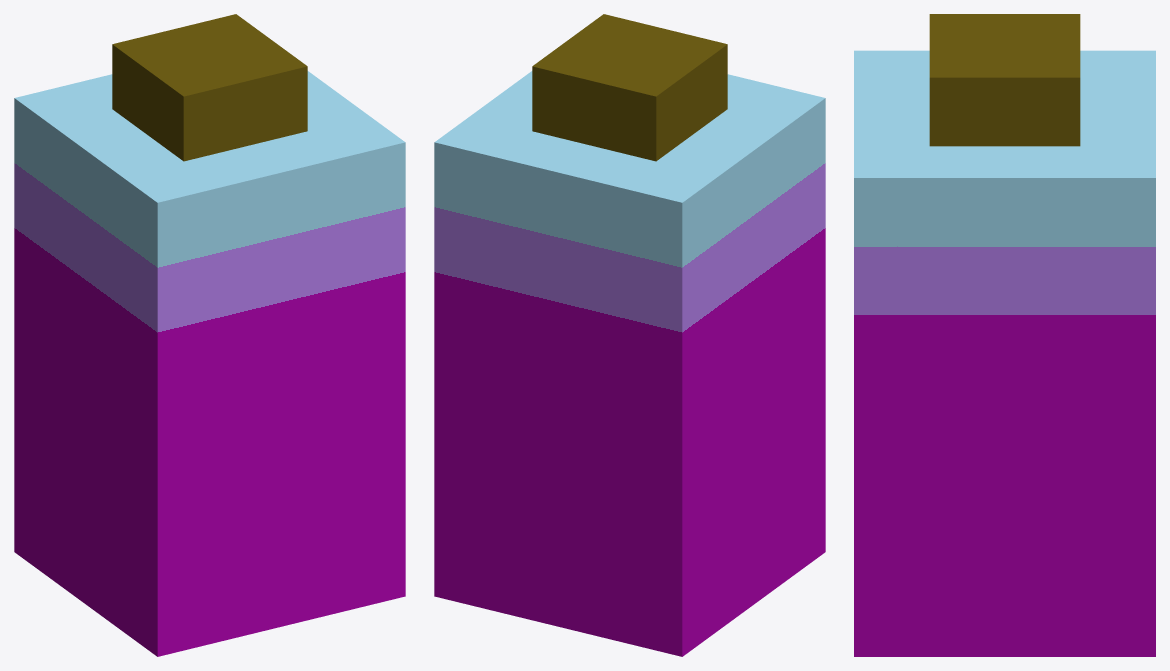
Rendered from item_potion_sp.fbx.
The picture shows the model from 3 angles, left to right: view 1: azimuth 30°, elevation 25°; view 2: azimuth 150°, elevation 25°; view 3: azimuth 270°, elevation 25°; orthographic projection. The views are drawn at different scales.
Visible parts, largest first — view 1: item_potion_sp; view 2: item_potion_sp; view 3: item_potion_sp.
Boxes of the visible parts, x1,y1,x2,y2 form: item_potion_sp: (14, 14, 405, 656); item_potion_sp: (434, 14, 825, 656); item_potion_sp: (854, 14, 1155, 656).
Bounding box in the file's own units: 4 × 8 × 4.
